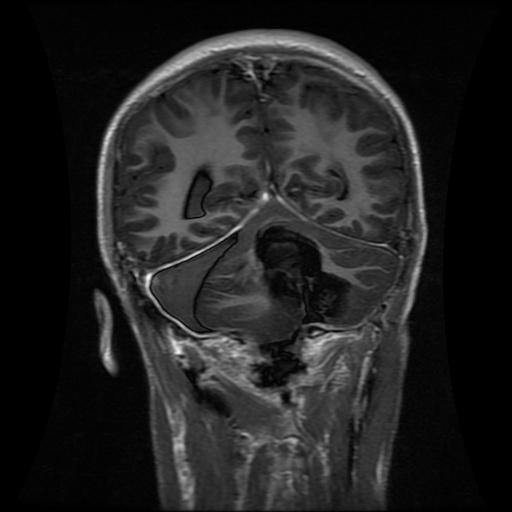glioma: (245, 215, 356, 326)
